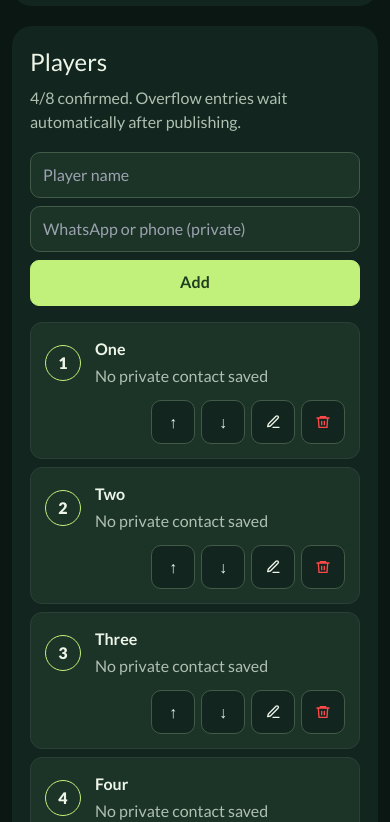
Test: Americano setup › keeps rotating add and edit forms free of fixed-position utilities
(page scrolled)
Expected: the field with placeholder "Player name" is shown, top-left (30, 152), bottom-right (360, 198)
Step 1. Click the 1st button named "Edit" → [273, 422], box top-left (251, 400), bottom-right (295, 444)
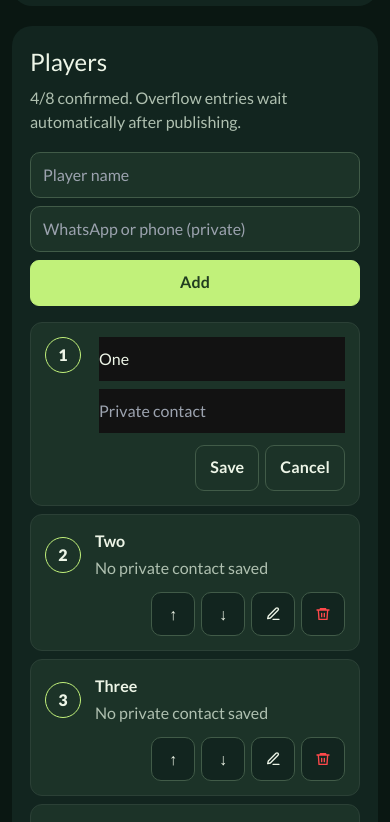
Expected: the field named "Edit player one" is shown, top-left (99, 337), bottom-right (345, 381)
